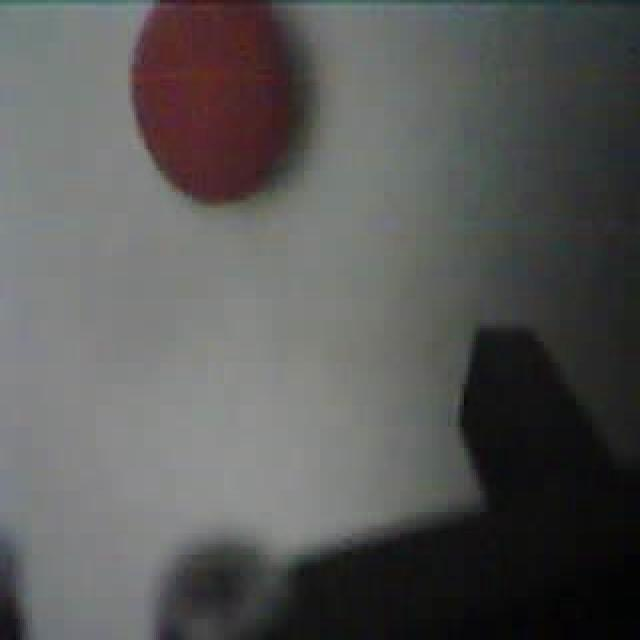red_ball: (126, 0, 300, 208)
